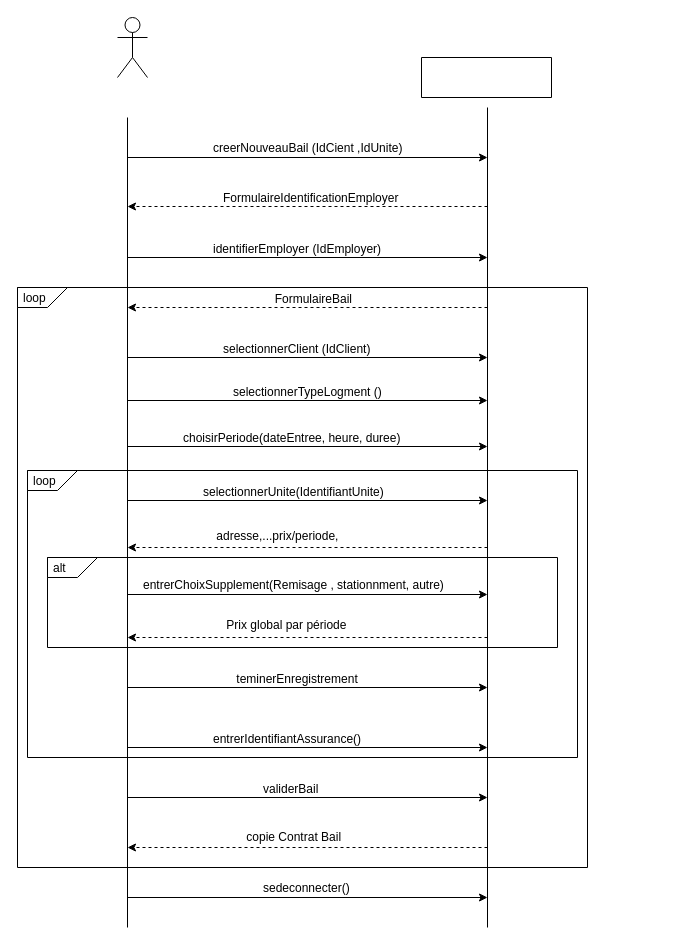
The diagram is 685 pixels wide and 946 high, and some of its shapes have lost their labels. The centre of each missing label's shape, as x and y in pixels:
": Employer" belongs at (132,47).
": Systeme GEST IMMO" belongs at (486,77).
